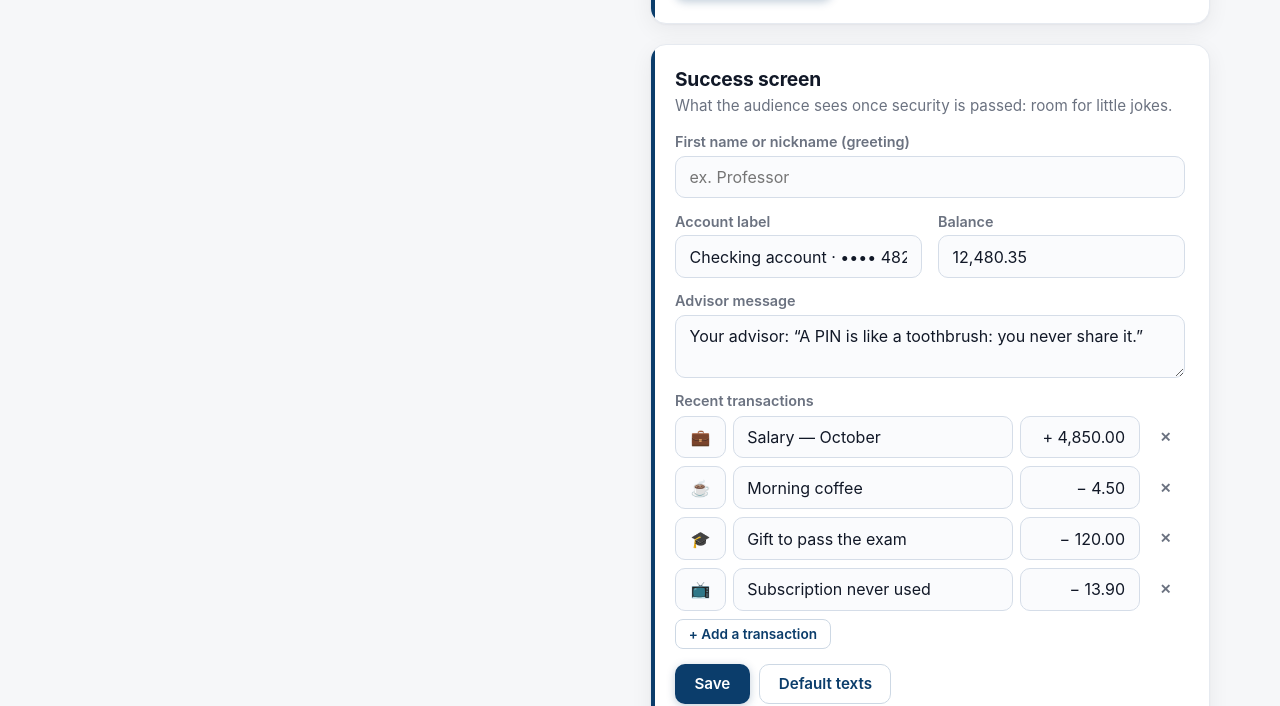
Config : écran de réussite › modifie le message et les opérations puis enregistre
(page scrolled)
Replace the text in the text box labelled "Advisor message" with "Blague du jour" at (930, 346), box [675,315,1185,378]
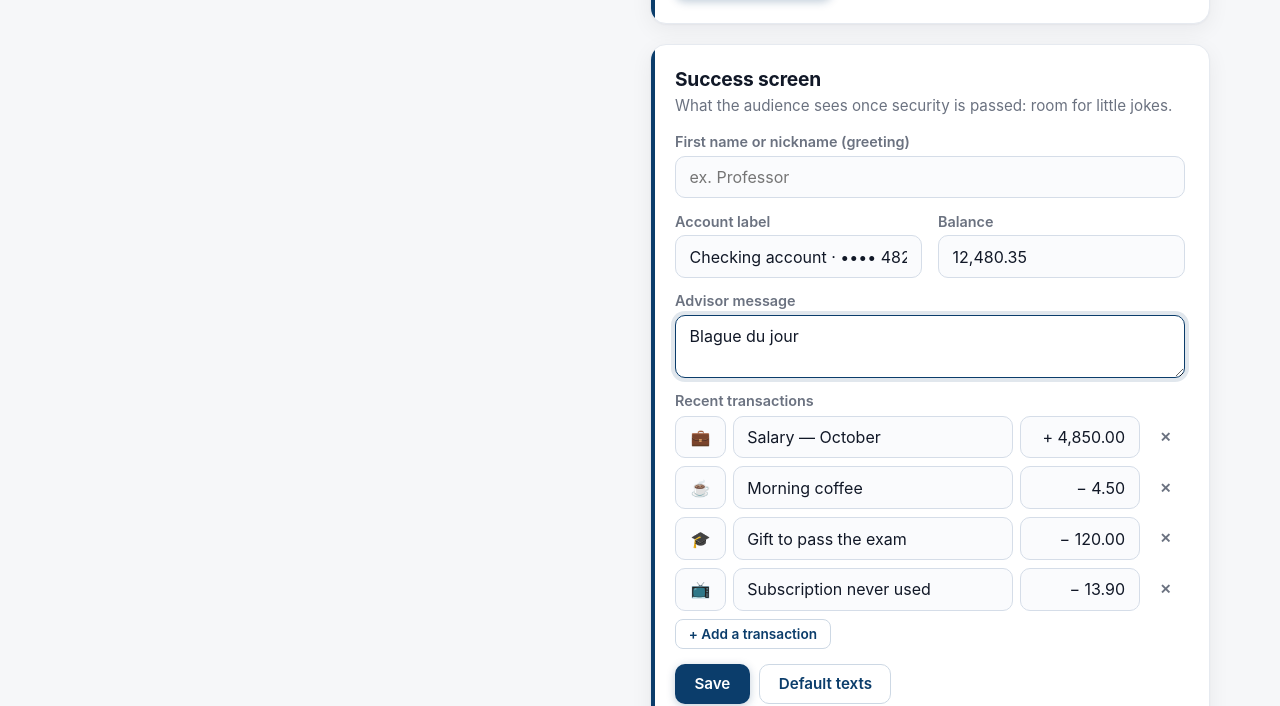
Click the button named "Delete transaction 1".
click(1166, 437)  # box [1146,422,1185,452]
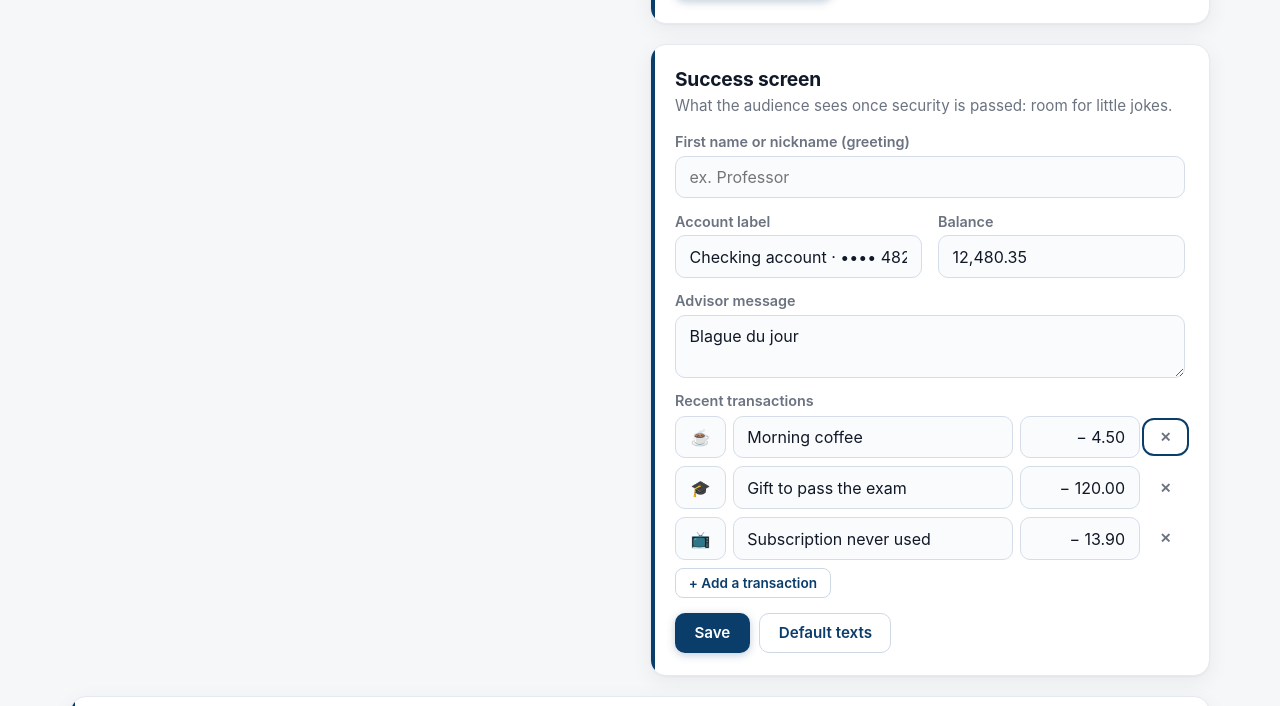
Click the button "+ Add a transaction".
click(753, 583)  # box [675,568,831,598]
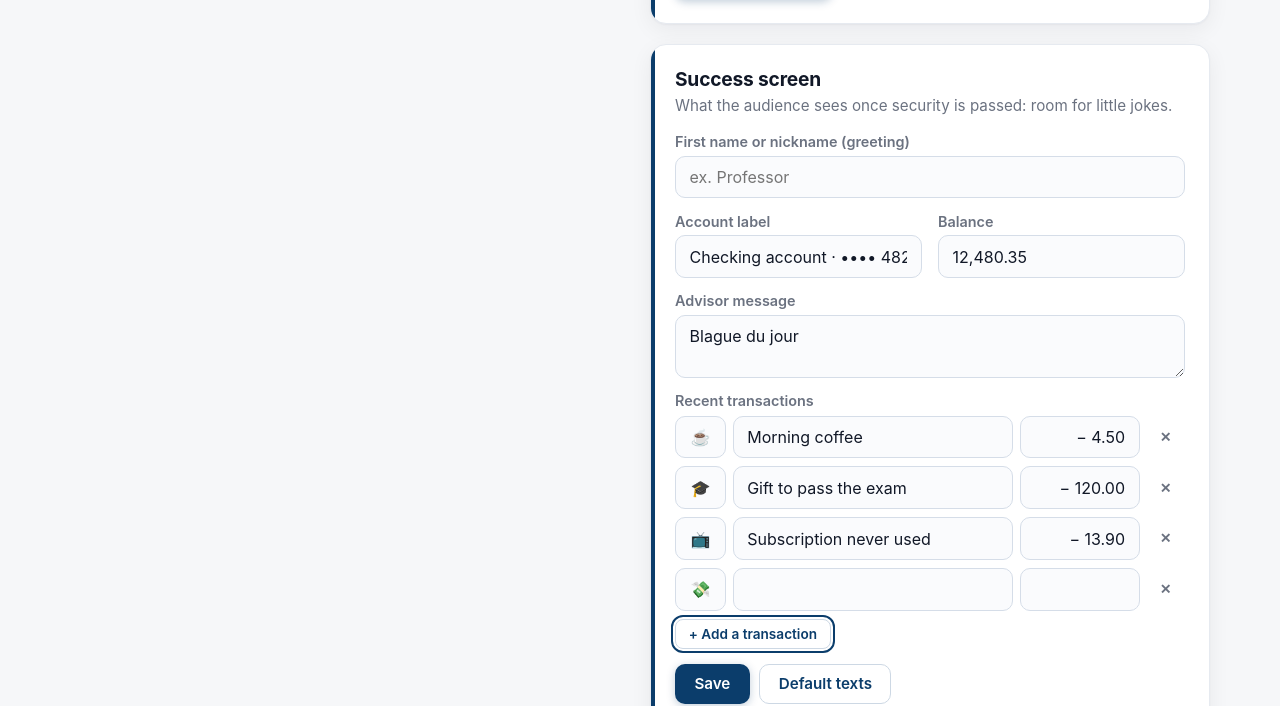
Click the button "Save".
click(712, 684)  # box [675,664,750,704]
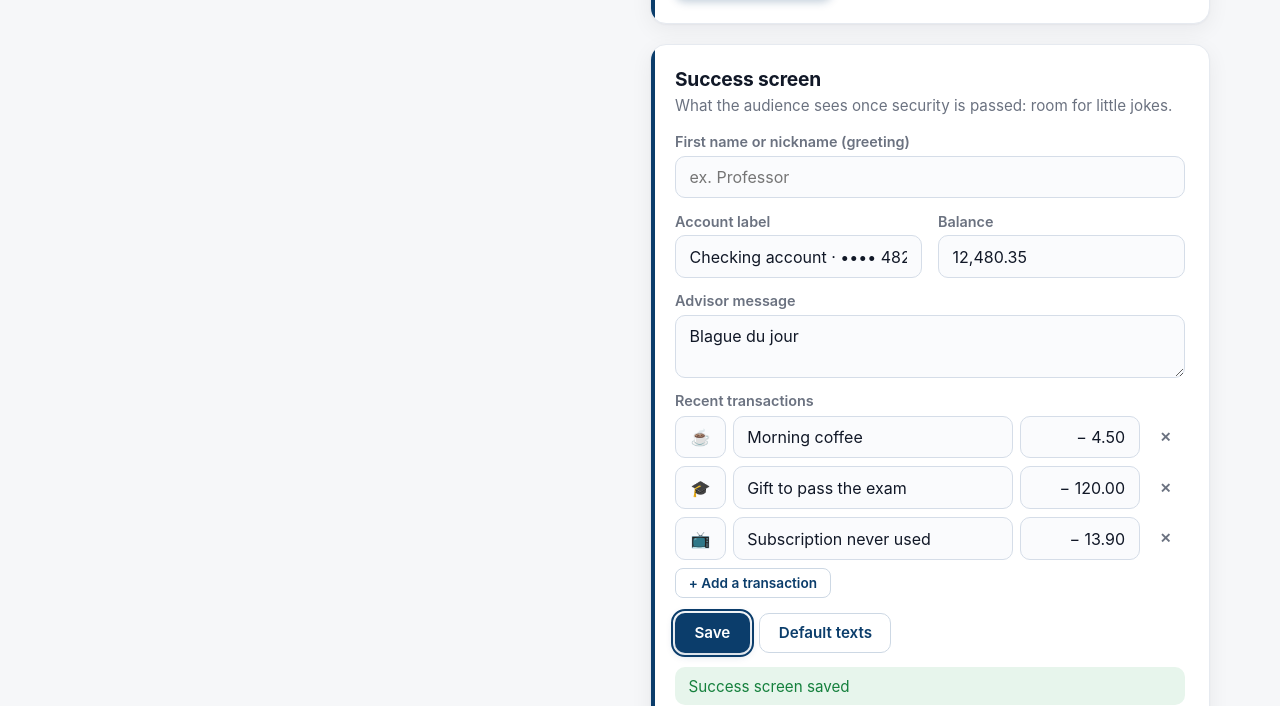
Expected: the text "Success screen saved" is shown, [675,667,1185,705]
